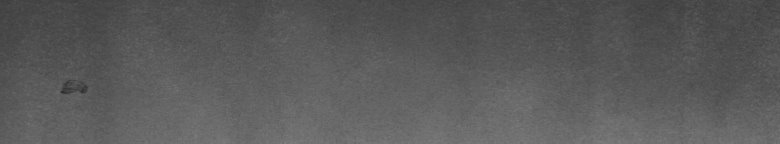fi: (56, 76, 87, 96)
